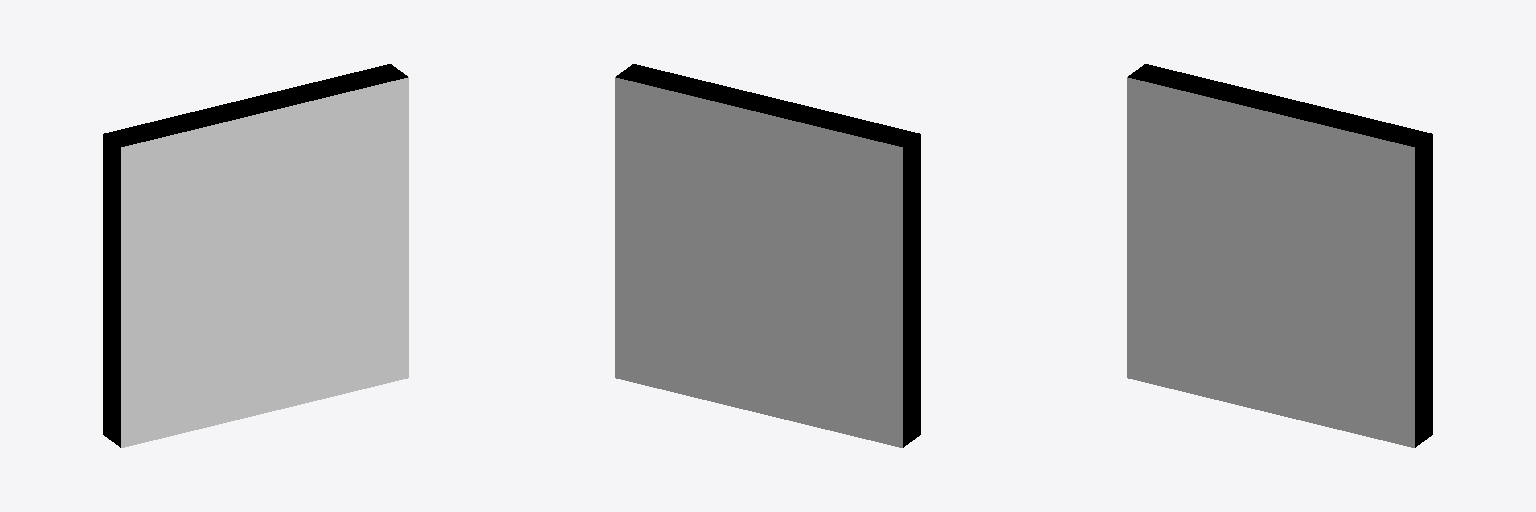
3 views of the same model, side by side, from view 1: azimuth 30°, elevation 25°; view 2: azimuth 150°, elevation 25°; view 3: azimuth 330°, elevation 25° (orthographic).
Visible parts, largest first — view 1: Cube; view 2: Cube; view 3: Cube.
Boxes of the visible parts, x1=… form: Cube: x1=103, y1=64, x2=408, y2=447; Cube: x1=615, y1=64, x2=920, y2=447; Cube: x1=1127, y1=64, x2=1432, y2=447.
Bounding box in the file's own units: 2 × 2 × 0.2226.
Materials: 2 (1 with a texture image).